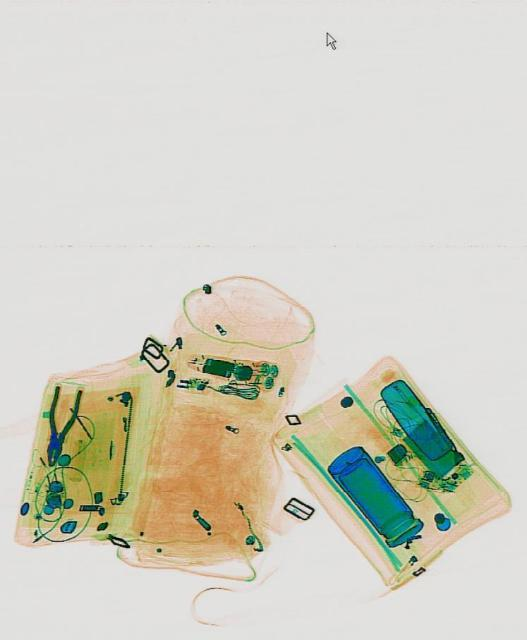Pliers: (34, 381, 82, 469)
